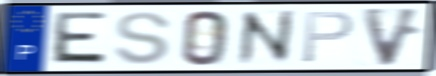0: (178, 9, 231, 68)
E: (48, 11, 109, 67)
N: (237, 8, 295, 68)
P: (299, 9, 356, 65)
S: (113, 10, 175, 67)
V: (359, 6, 425, 69)
